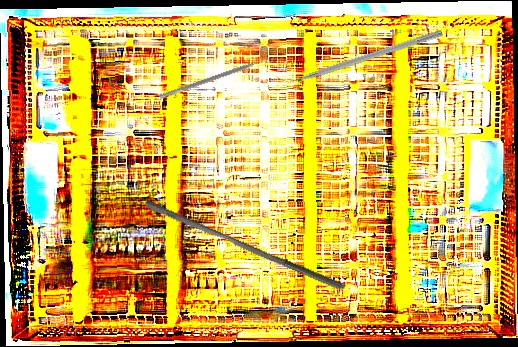Chopper: (274, 20, 444, 90)
Pusher: (140, 198, 350, 292)
Spatula Surgical: (158, 55, 271, 105)
